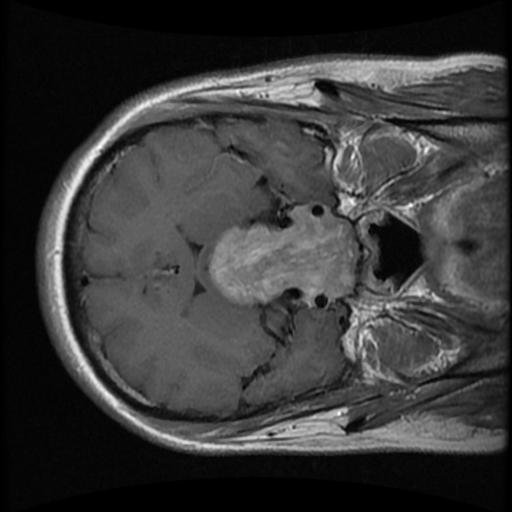pituitary tumour: (212, 208, 356, 306)
